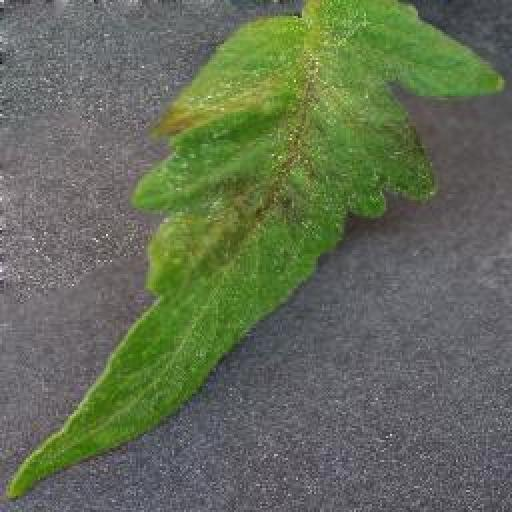disease_tomato: (0, 0, 508, 496)
